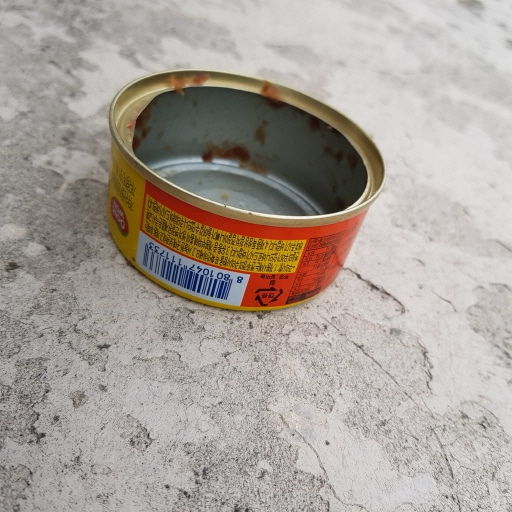Metal_1: (103, 68, 387, 315)
